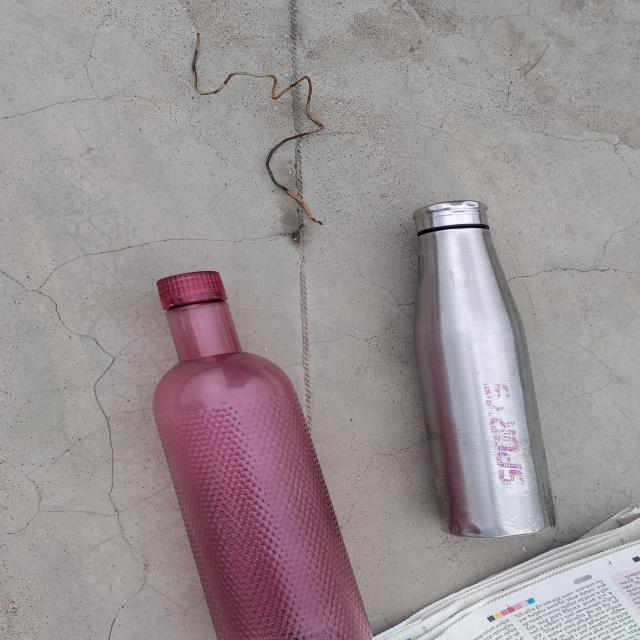metal: (413, 201, 558, 537), (190, 31, 339, 224)
paper: (372, 501, 640, 640)
plastic: (152, 269, 372, 640)
